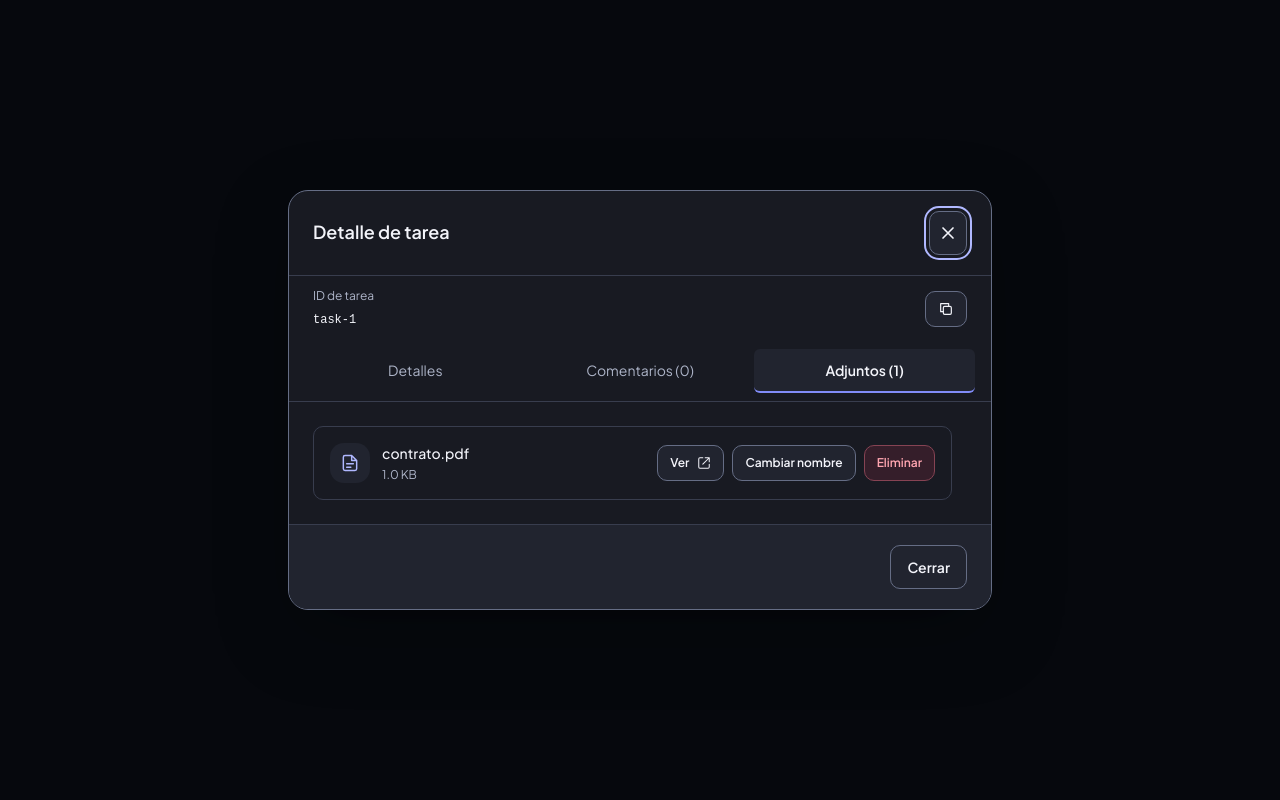
Test: Gestión de adjuntos › confirma la eliminación del documento y no ofrece acciones a quien no tiene permiso
This screenshot has width=1280, height=800.
Click the button with aria-label "Eliminar contrato.pdf": click(899, 463) [864, 445, 935, 481]
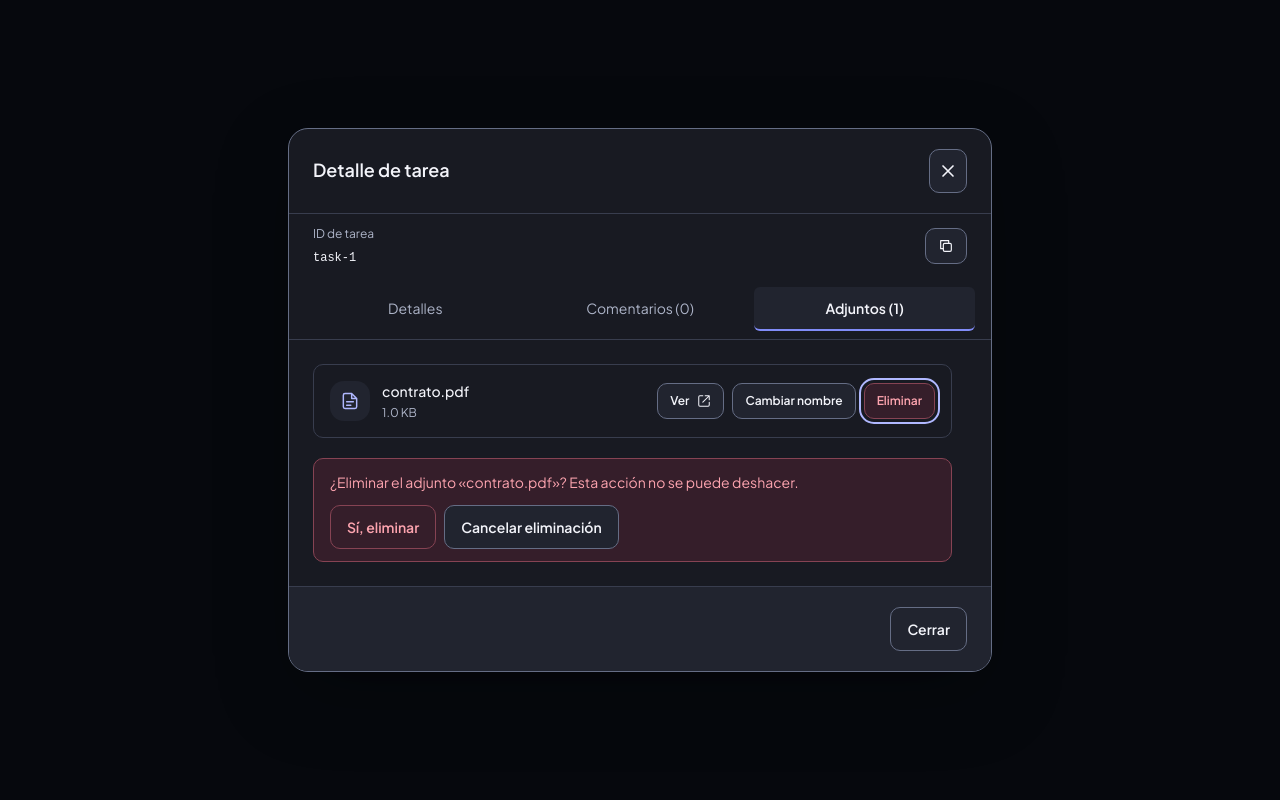
Expected: the element named "Confirmar eliminación" shows "contrato.pdf", [391, 473, 560, 491]
Click the button "Sí, eliminar": click(383, 528) [330, 506, 436, 550]
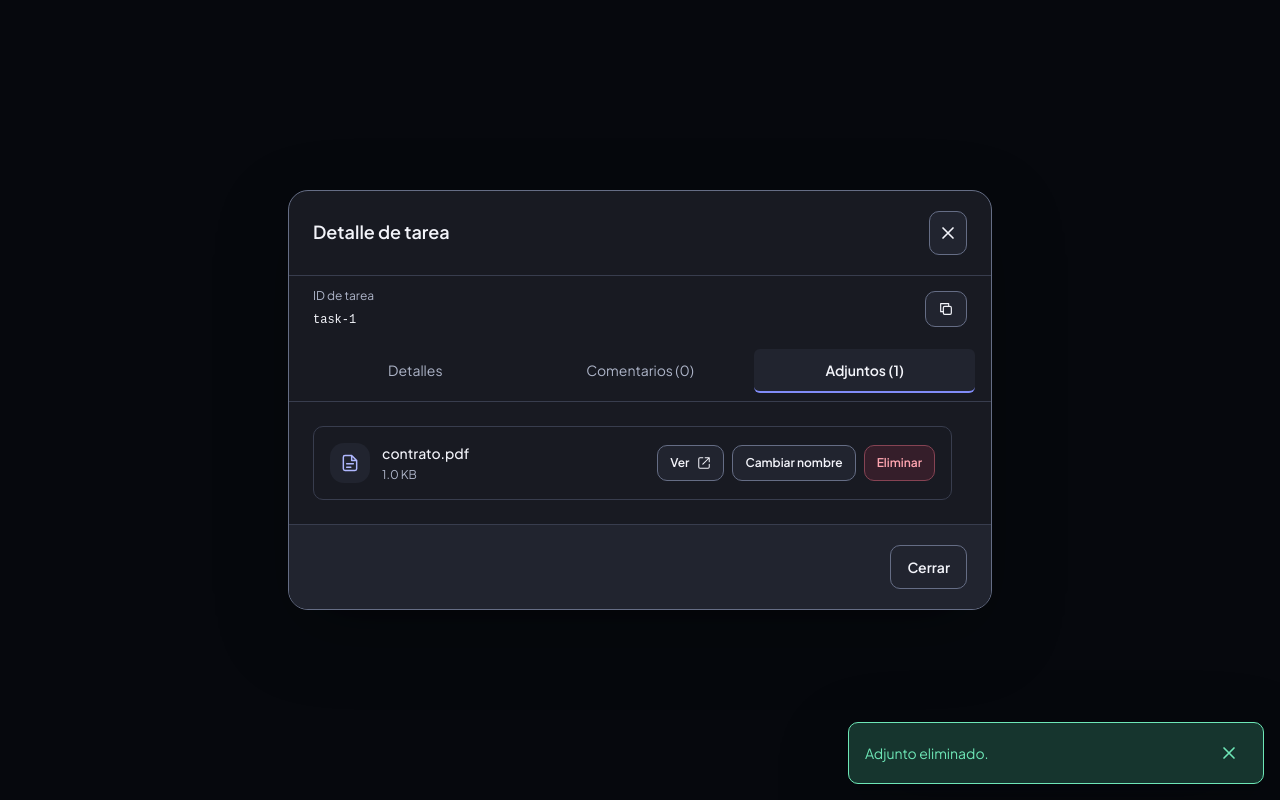
Expected: the message reads "Adjunto eliminado.", [865, 744, 989, 762]
